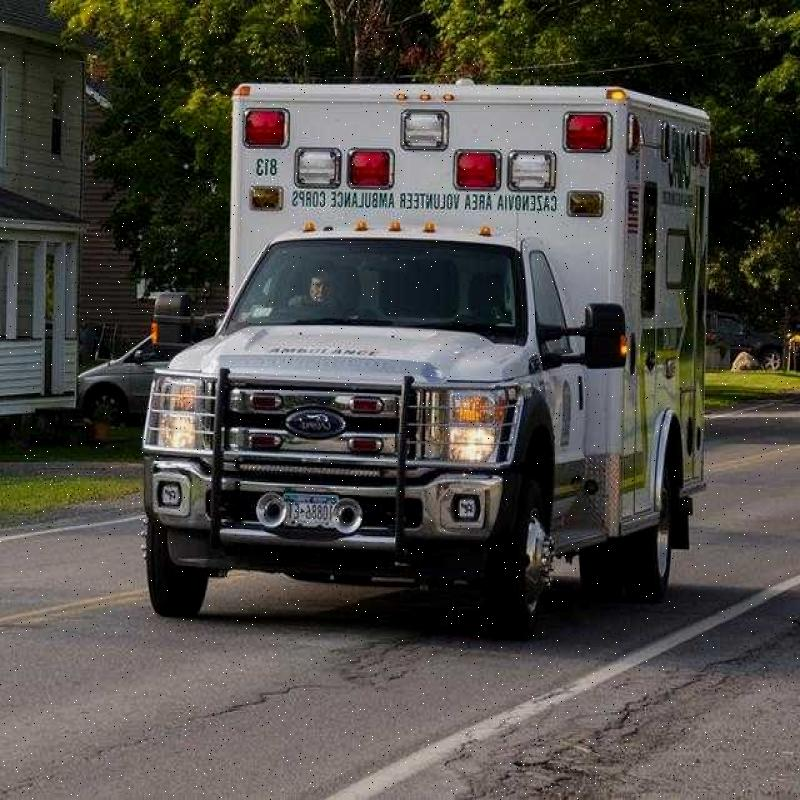AmbulanceSiren: (240, 102, 623, 202)
